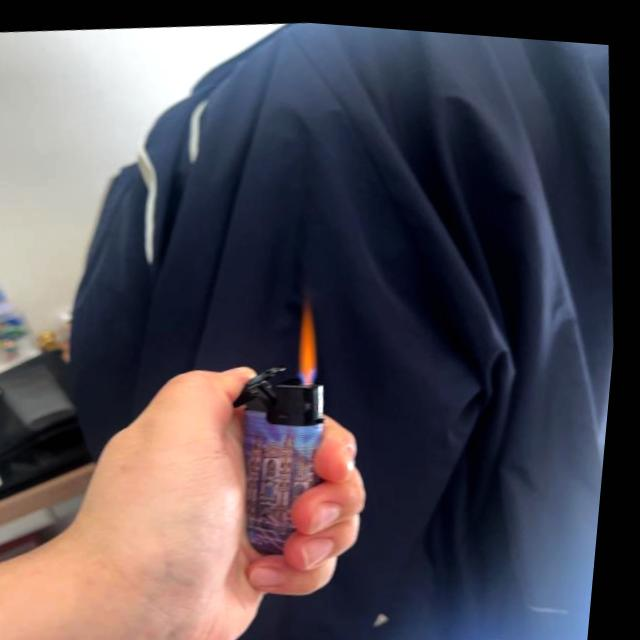Fire: (293, 293, 332, 386)
